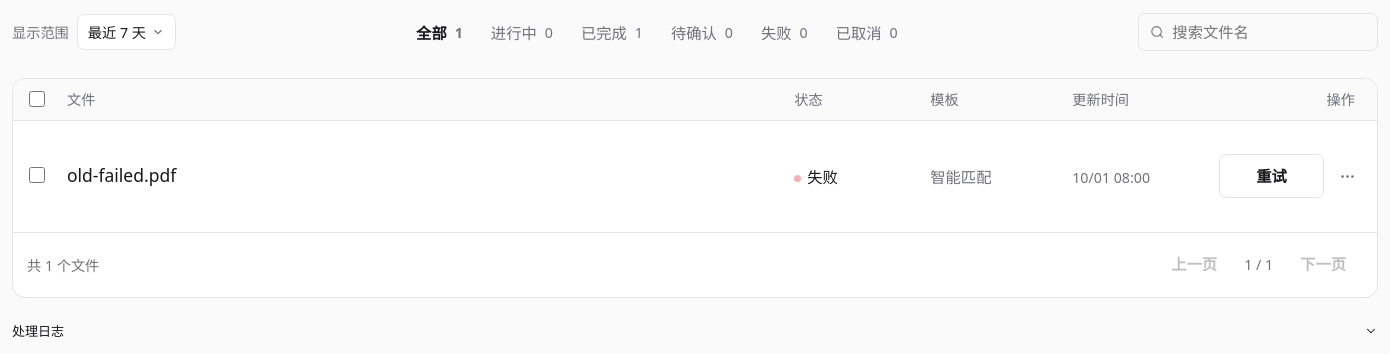
Test: switches day/all by server scope, clears selection/page, and leaves old failures to the API
The width and height of the screenshot is (1390, 354).
Expected: the text "old-failed.pdf" is shown, [67,163,176,187]
Click the checkbox named "选择 old-failed.pdf" at [37, 175], box [29,167,45,183]
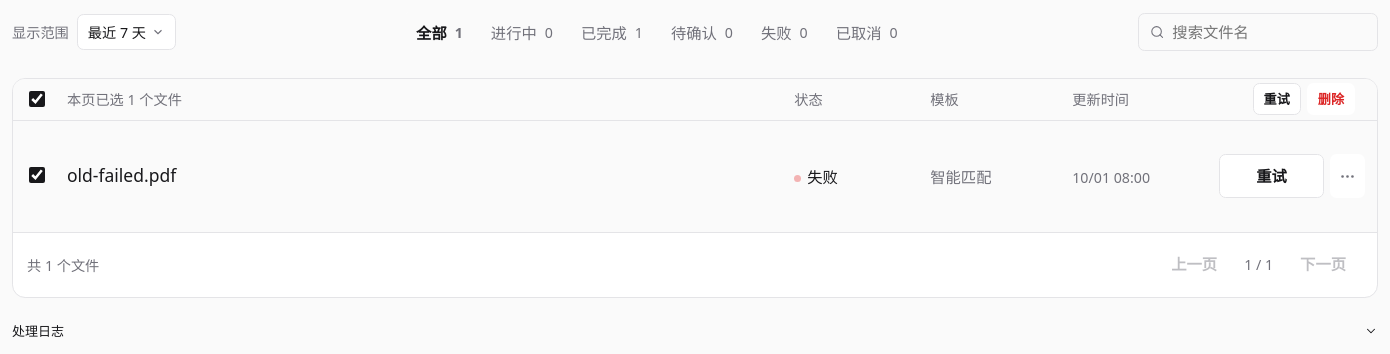
Select "最近一天" in the dropdown labelled "显示范围" at [126, 32], box [77,14,176,50]
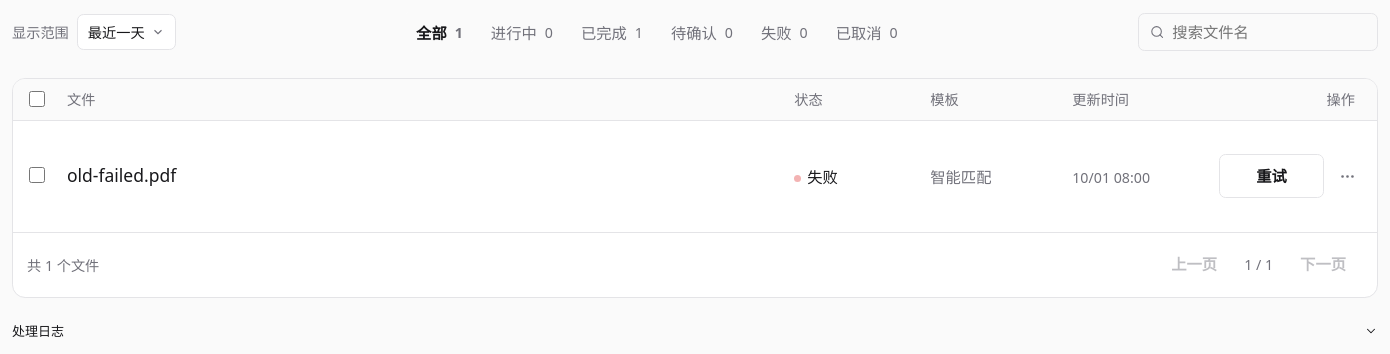
Expected: the button with aria-label "重试 old-failed.pdf" is enabled, [1219,154,1324,198]
Result: the text "本页已选" is gone
Select "全部记录" in the dropdown labelled "显示范围" at [126, 32], box [77,14,176,50]
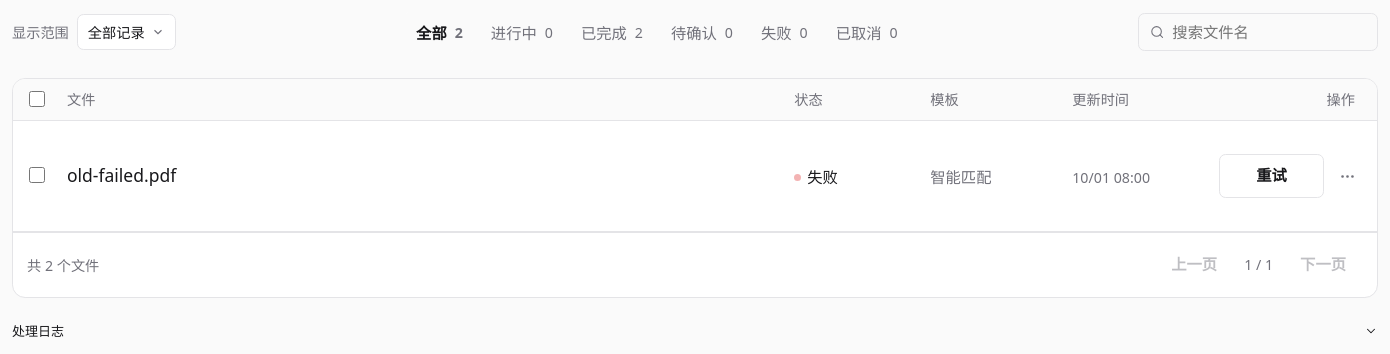
Result: the text "共 2 个文件" is shown at [27,254,99,274]
